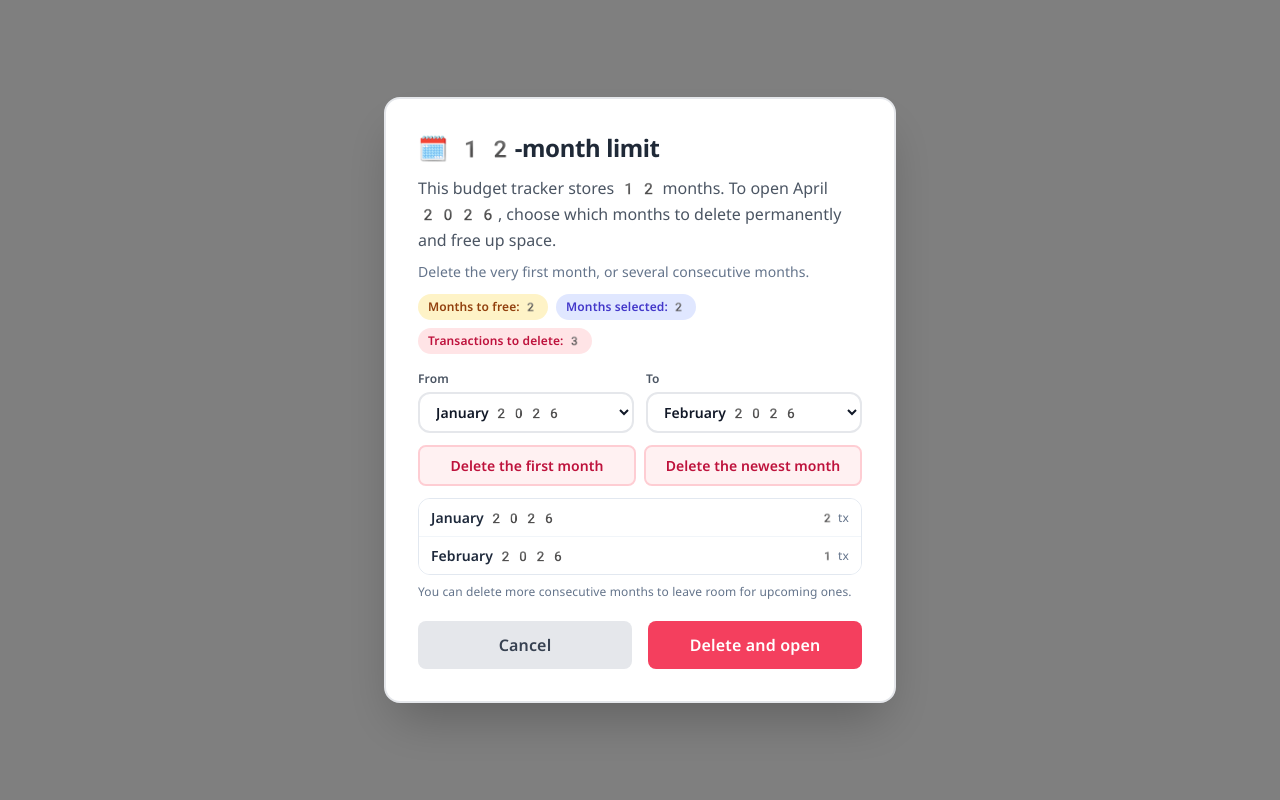
keeps the selected range consecutive and blocks an insufficient range
Later steps or results of the test are not shown.
Check: the button "Delete and open" is enabled, box 648,621 -> 862,669
Click the button "Delete the first month" at x=527, y=466, box 418,445 -> 636,486
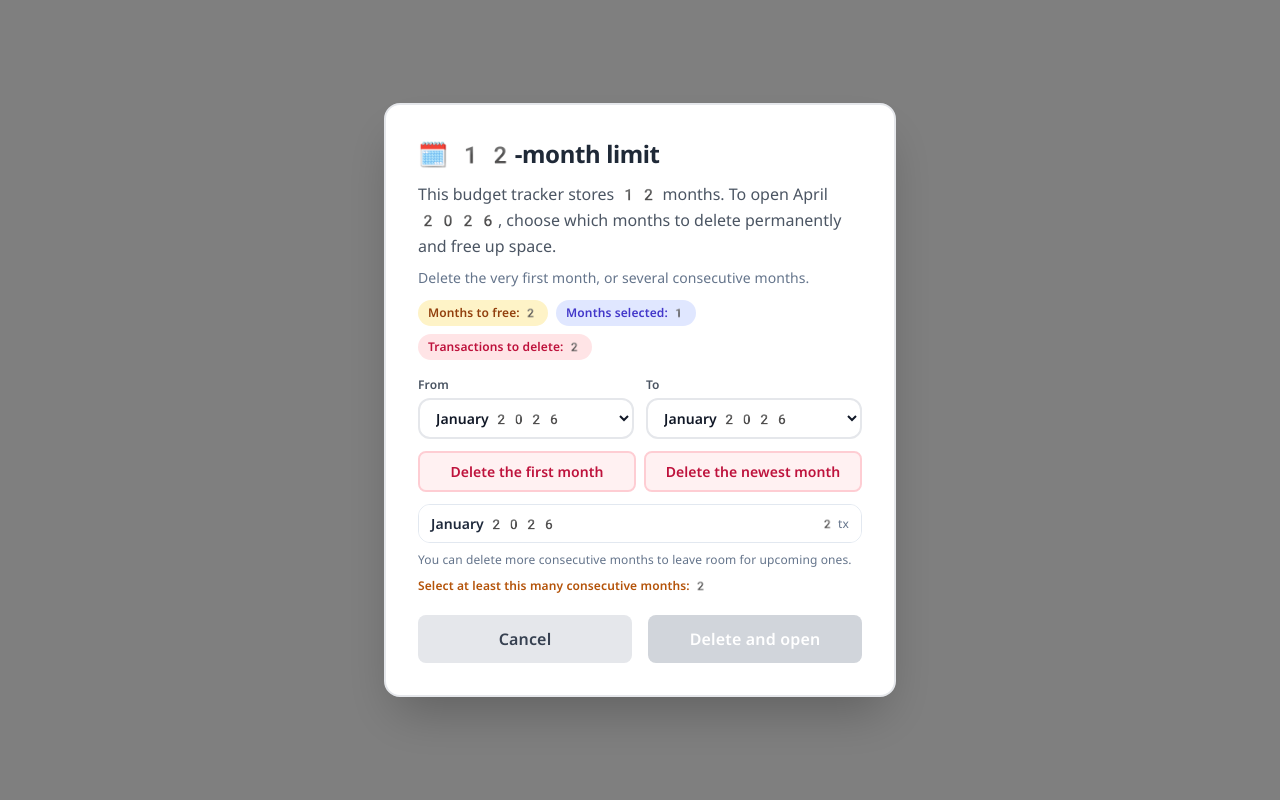
Check: the button "Delete and open" is disabled, box 648,615 -> 862,663
